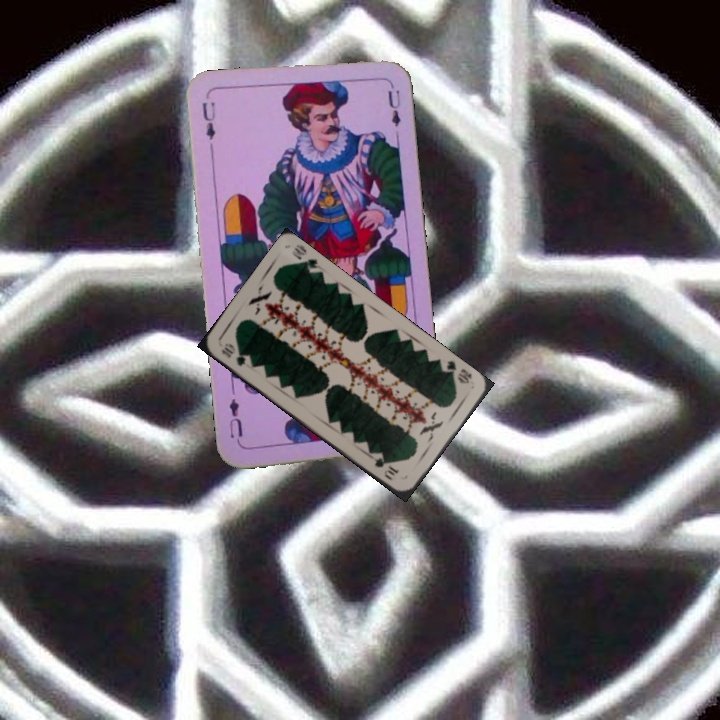EU: (198, 98, 218, 155)
G10: (436, 356, 475, 387), (217, 339, 248, 369)
